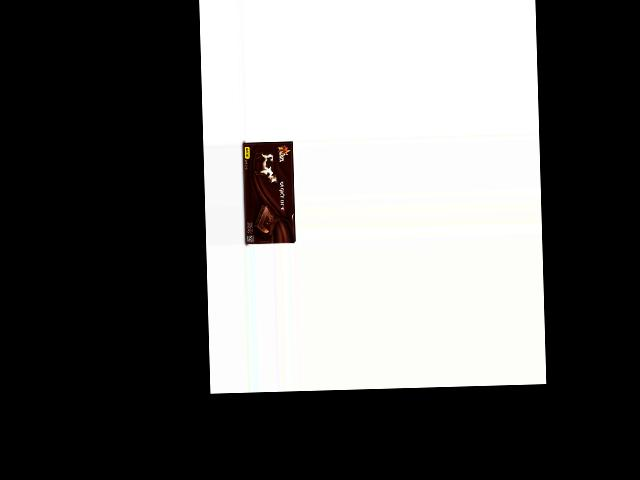chocolate: (242, 138, 296, 243)
